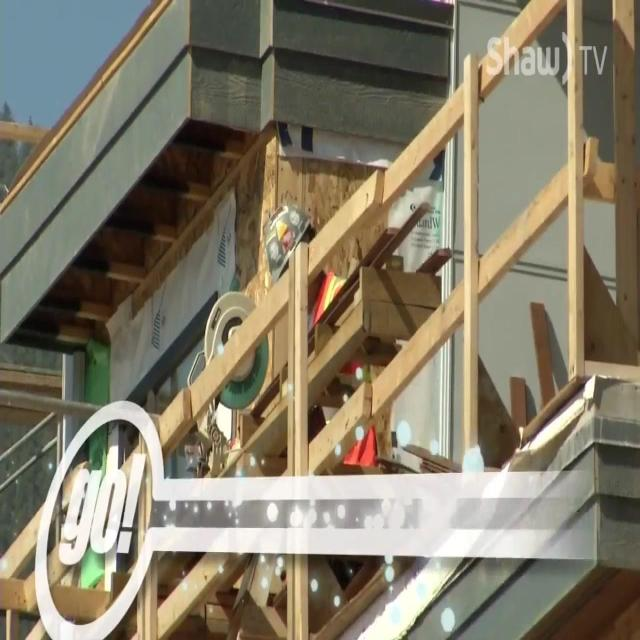Vest: (312, 269, 377, 472)
